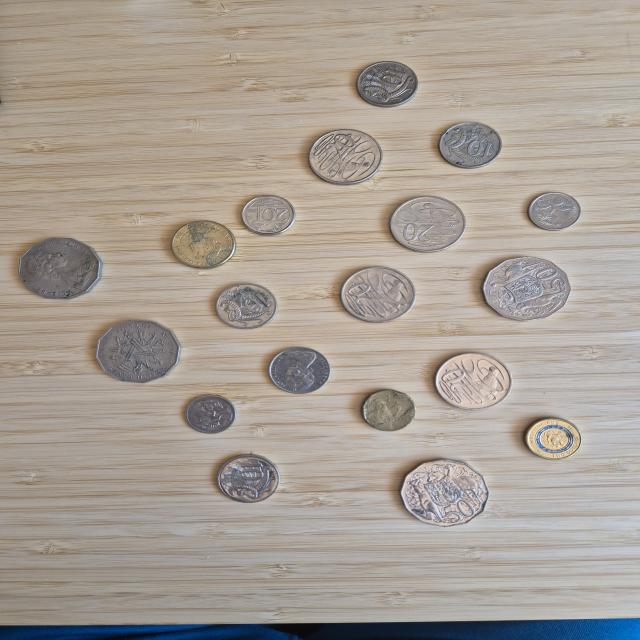1-dollar: (163, 218, 239, 272)
10-cents: (345, 58, 423, 111), (208, 453, 283, 508), (206, 281, 282, 332), (436, 121, 507, 173), (263, 347, 334, 399)
2-dollar: (521, 416, 584, 464), (356, 388, 417, 435)
20-cents: (329, 264, 417, 328), (428, 350, 514, 413), (298, 128, 385, 189), (385, 194, 469, 256)
5-cents: (234, 193, 307, 239), (177, 392, 241, 440), (523, 190, 585, 234)
50-cents: (393, 458, 492, 530), (480, 258, 573, 325), (89, 320, 183, 386), (16, 236, 104, 302)
